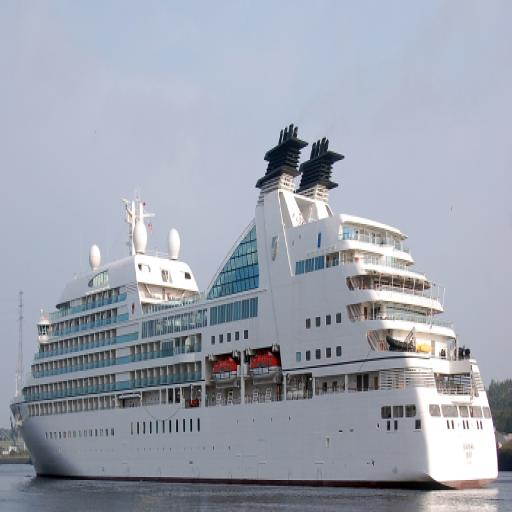cruises: (9, 120, 502, 496)
